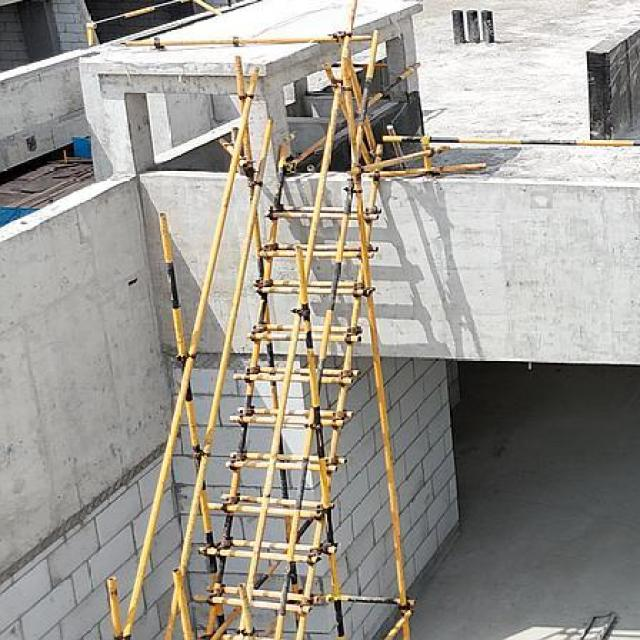edge_guardrail: (287, 62, 422, 169), (381, 135, 640, 178), (84, 0, 224, 46)
